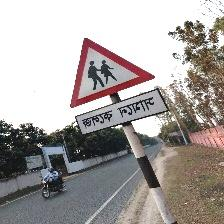College-in-front: (59, 26, 188, 138)
